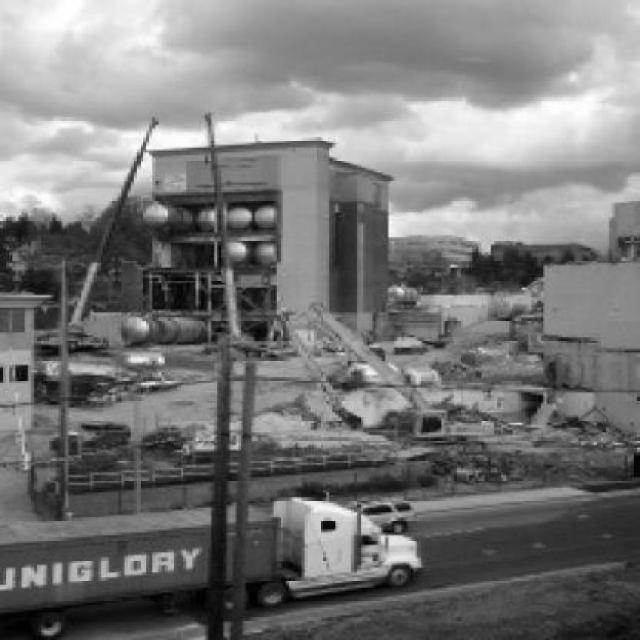Construction Equipment: (289, 305, 500, 453), (35, 117, 159, 357)
Tractor Trailer: (0, 496, 427, 640)
